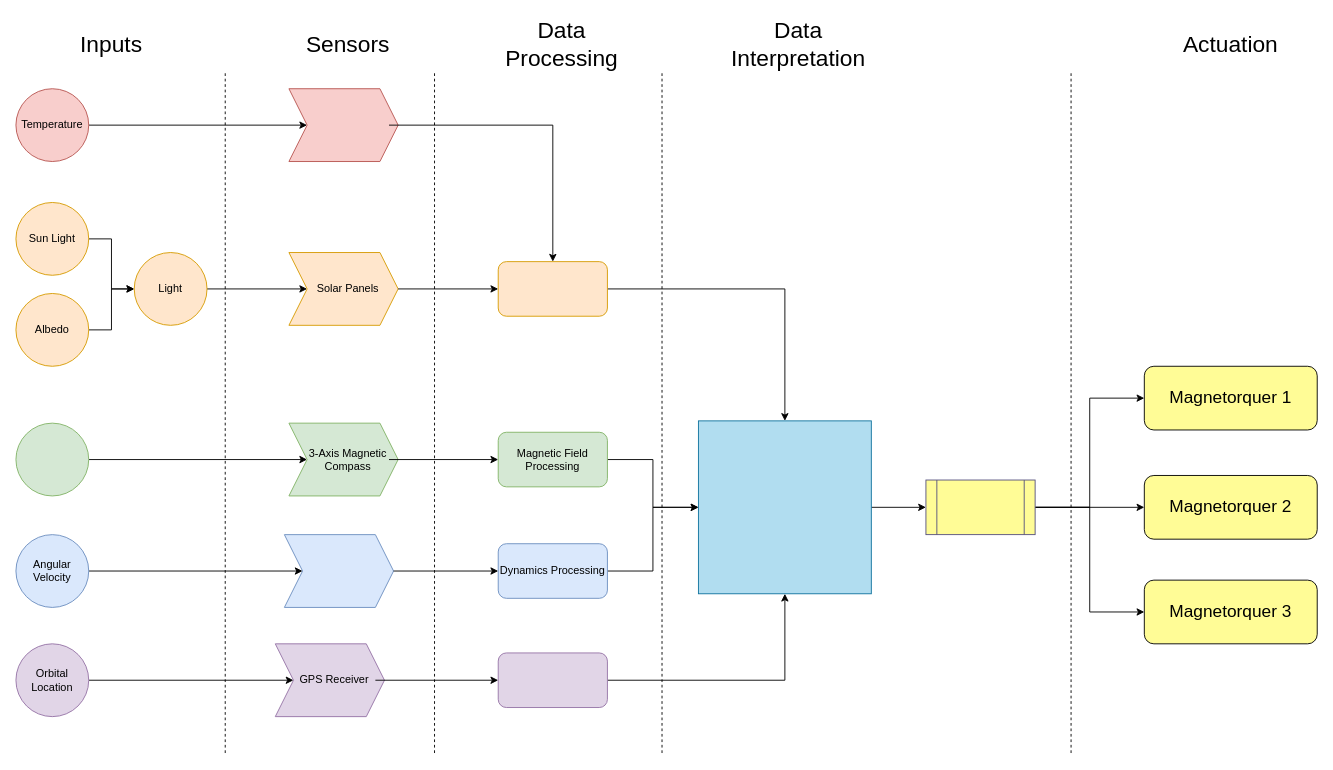
Some shapes in this 1333 by 770 pixel diagram are drawn without their labels. The shapes that lost their labels are listed below. From the top down, each one's centre as x and y in pixels, then its label:
the point at 343,125: Temperature Sensor
the point at 552,288: Light Processing
the point at 52,459: Magnetic Field
the point at 784,507: State Estimation
the point at 980,507: Attitude Estimation
the point at 338,570: 3-Axis Gyroscope
the point at 552,680: Orbital Processing
